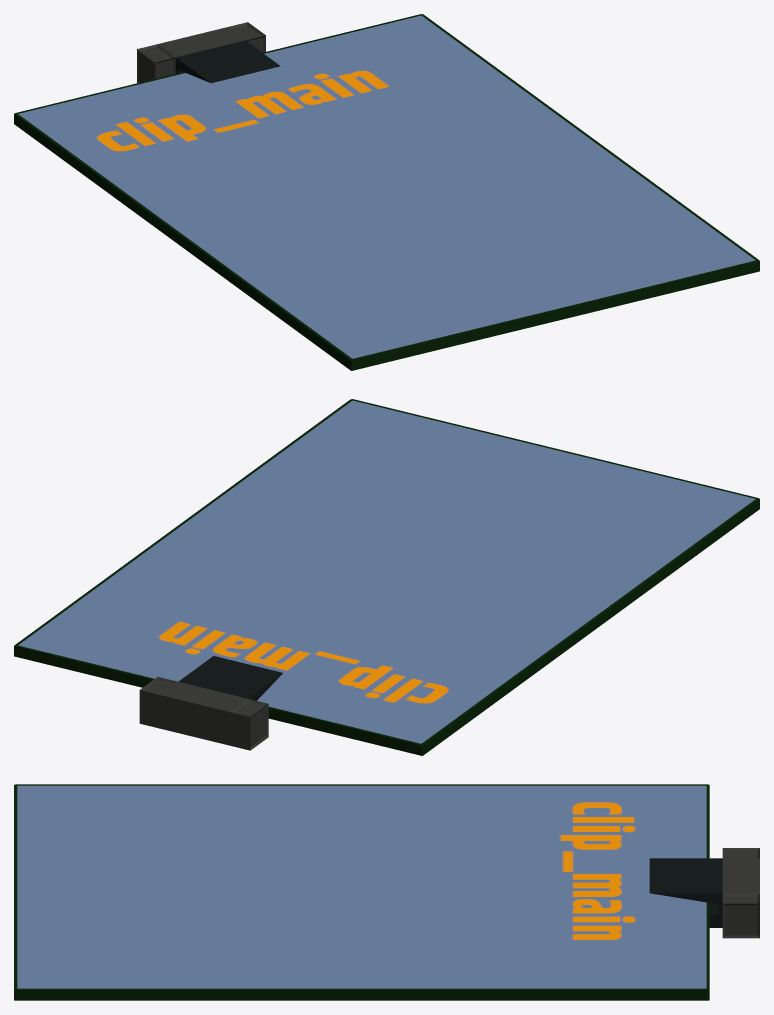
The model's file is clip_main.obj.
3 renders of one model, top to bottom at view 1: azimuth 30°, elevation 25°; view 2: azimuth 150°, elevation 25°; view 3: azimuth 270°, elevation 25°, orthographic. The views are drawn at different scales.
Parts seen in each view (by area): view 1: clipboard_board_Cube; view 2: clipboard_board_Cube; view 3: clipboard_board_Cube.
Boxes of the visible parts, box(x1,y1,x2,y2) form: clipboard_board_Cube: box(14, 14, 759, 370); clipboard_board_Cube: box(14, 399, 759, 755); clipboard_board_Cube: box(14, 784, 759, 1000).
Bounding box in the file's own units: 0.2144 × 0.0169 × 0.3289.
Materials: 4 (1 with a texture image).
